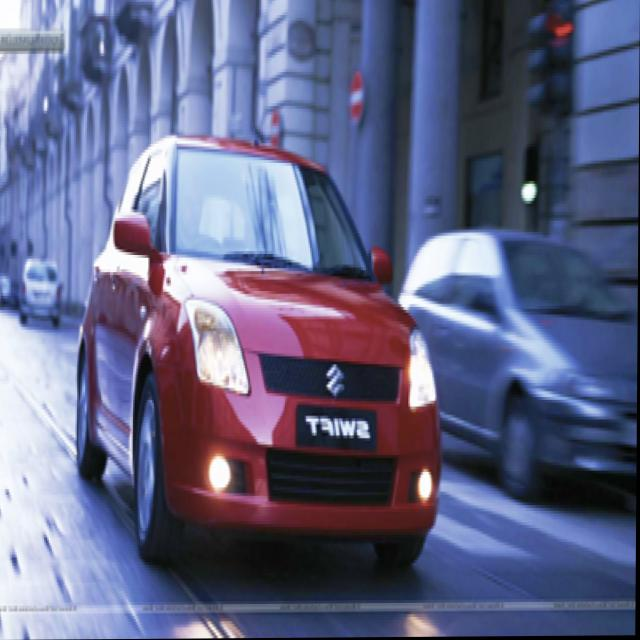licence: (300, 410, 378, 448)
